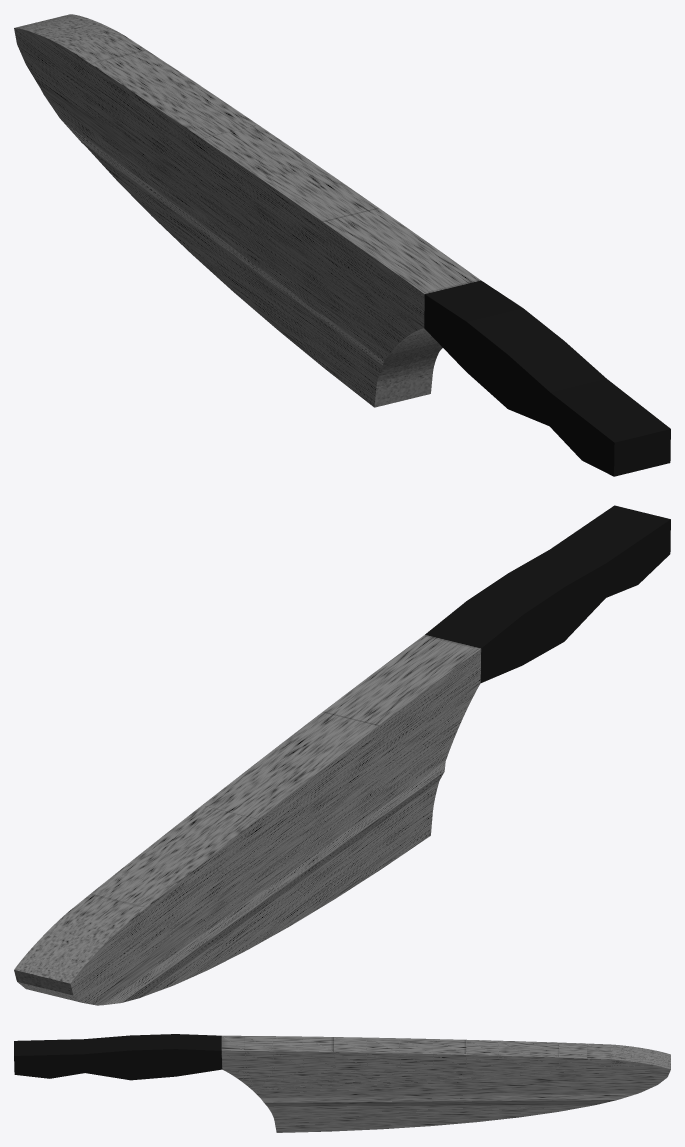
Rendered from Knife.fbx.
The picture shows the model from 3 angles, top to bottom: view 1: azimuth 30°, elevation 25°; view 2: azimuth 150°, elevation 25°; view 3: azimuth 270°, elevation 25°; orthographic projection. The views are drawn at different scales.
Visible parts, largest first — view 1: Cube; view 2: Cube; view 3: Cube.
Part boxes in pixels (left/top/right/bottom): Cube: left=14, top=14, right=670, bottom=476; Cube: left=14, top=505, right=670, bottom=1005; Cube: left=14, top=1034, right=670, bottom=1132.
Bounding box in the file's own units: 17.42 × 41.29 × 293.
